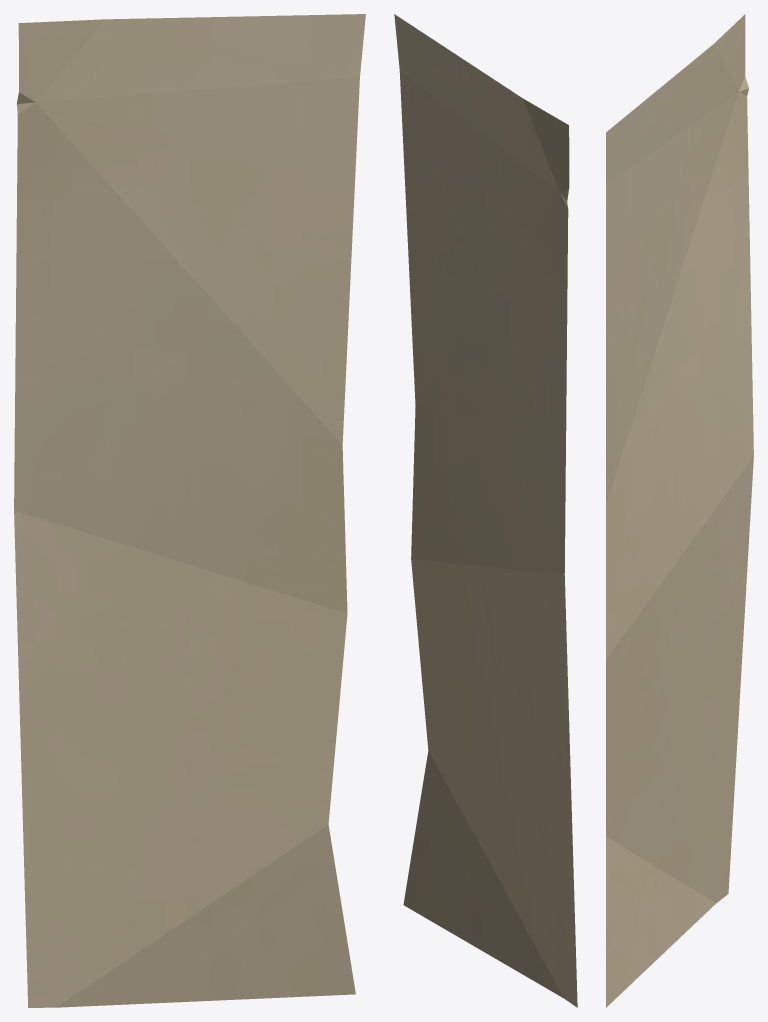
3 renders of one model, left to right at view 1: azimuth 30°, elevation 25°; view 2: azimuth 150°, elevation 25°; view 3: azimuth 270°, elevation 25°, orthographic. The views are drawn at different scales.
Size of the model in its own units: 0.2417 by 0.8374 by 0.1275.
1 material, 1 textured.
